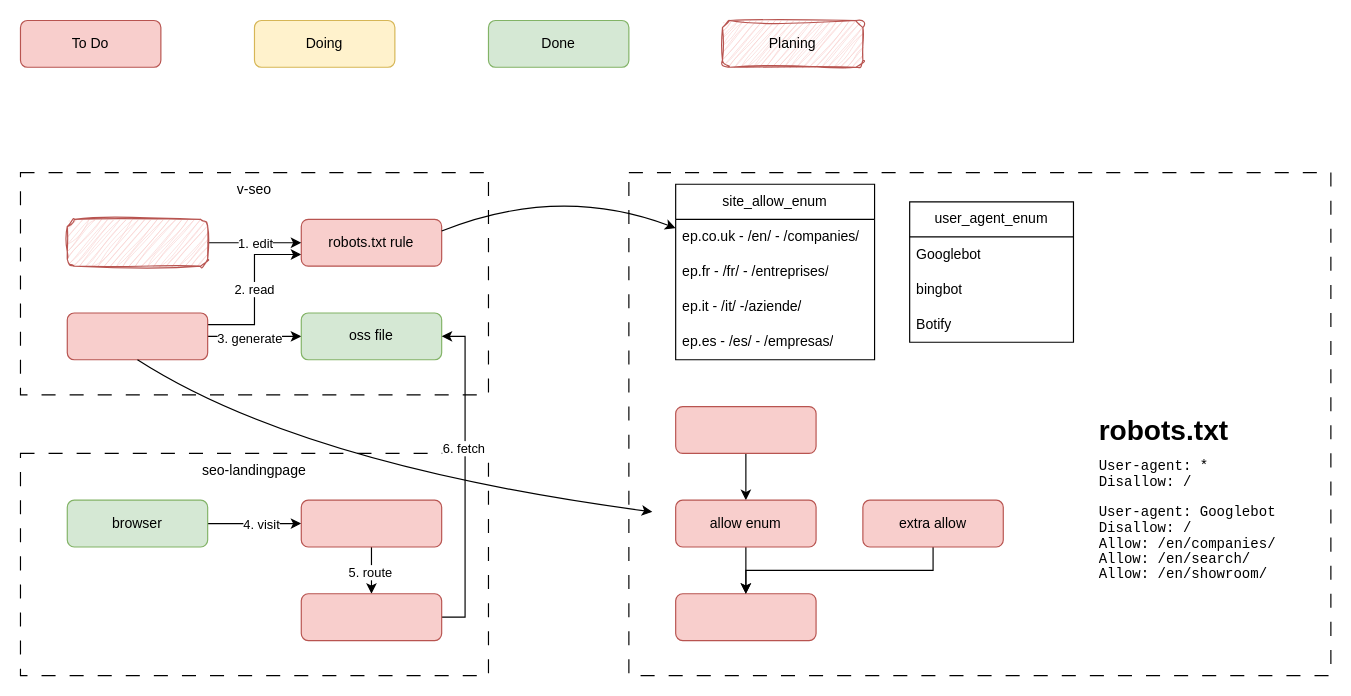
The diagram is 1351 pixels wide and 696 high, and some of its shapes have lost their labels. The shapes that lost their labels are listed below. From the top down, each one's centre as x and y in pixels, then its label:
pixel 137 242: developer
pixel 137 336: mannual task
pixel 745 429: disallow all
pixel 371 523: nginx
pixel 371 617: seo controller
pixel 745 617: robots.txt
